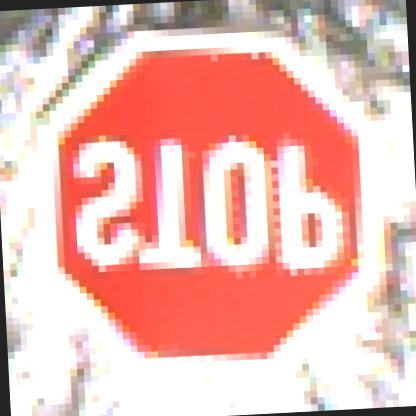stop: (41, 29, 384, 375)
